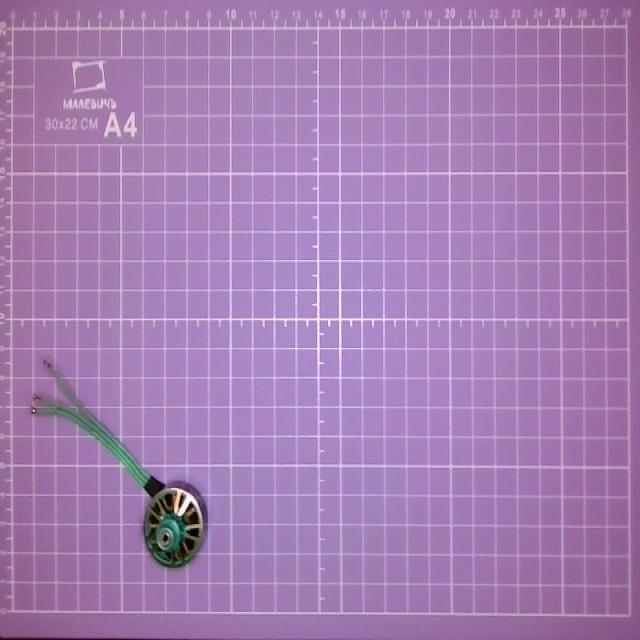motor: (32, 356, 208, 569)
